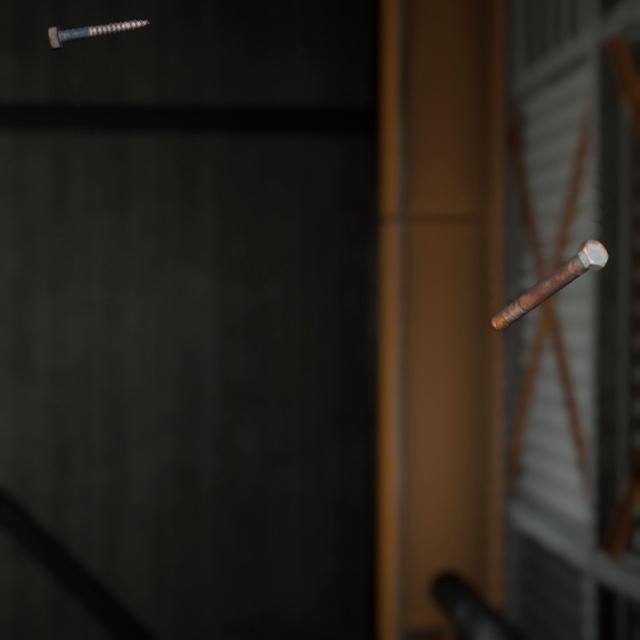bolt: (486, 217, 613, 318), (43, 6, 154, 45)
